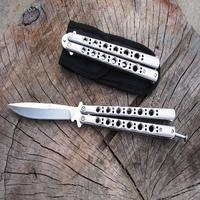knife: (6, 94, 182, 145)
